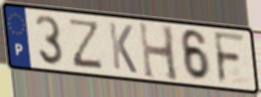3: (34, 14, 65, 67)
6: (178, 28, 213, 83)
F: (211, 30, 248, 87)
H: (137, 20, 182, 84)
K: (107, 21, 139, 76)
Z: (69, 17, 105, 71)
